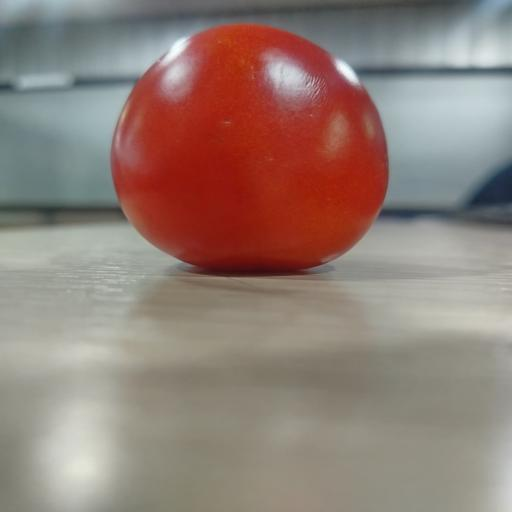ripe: (111, 24, 388, 270)
